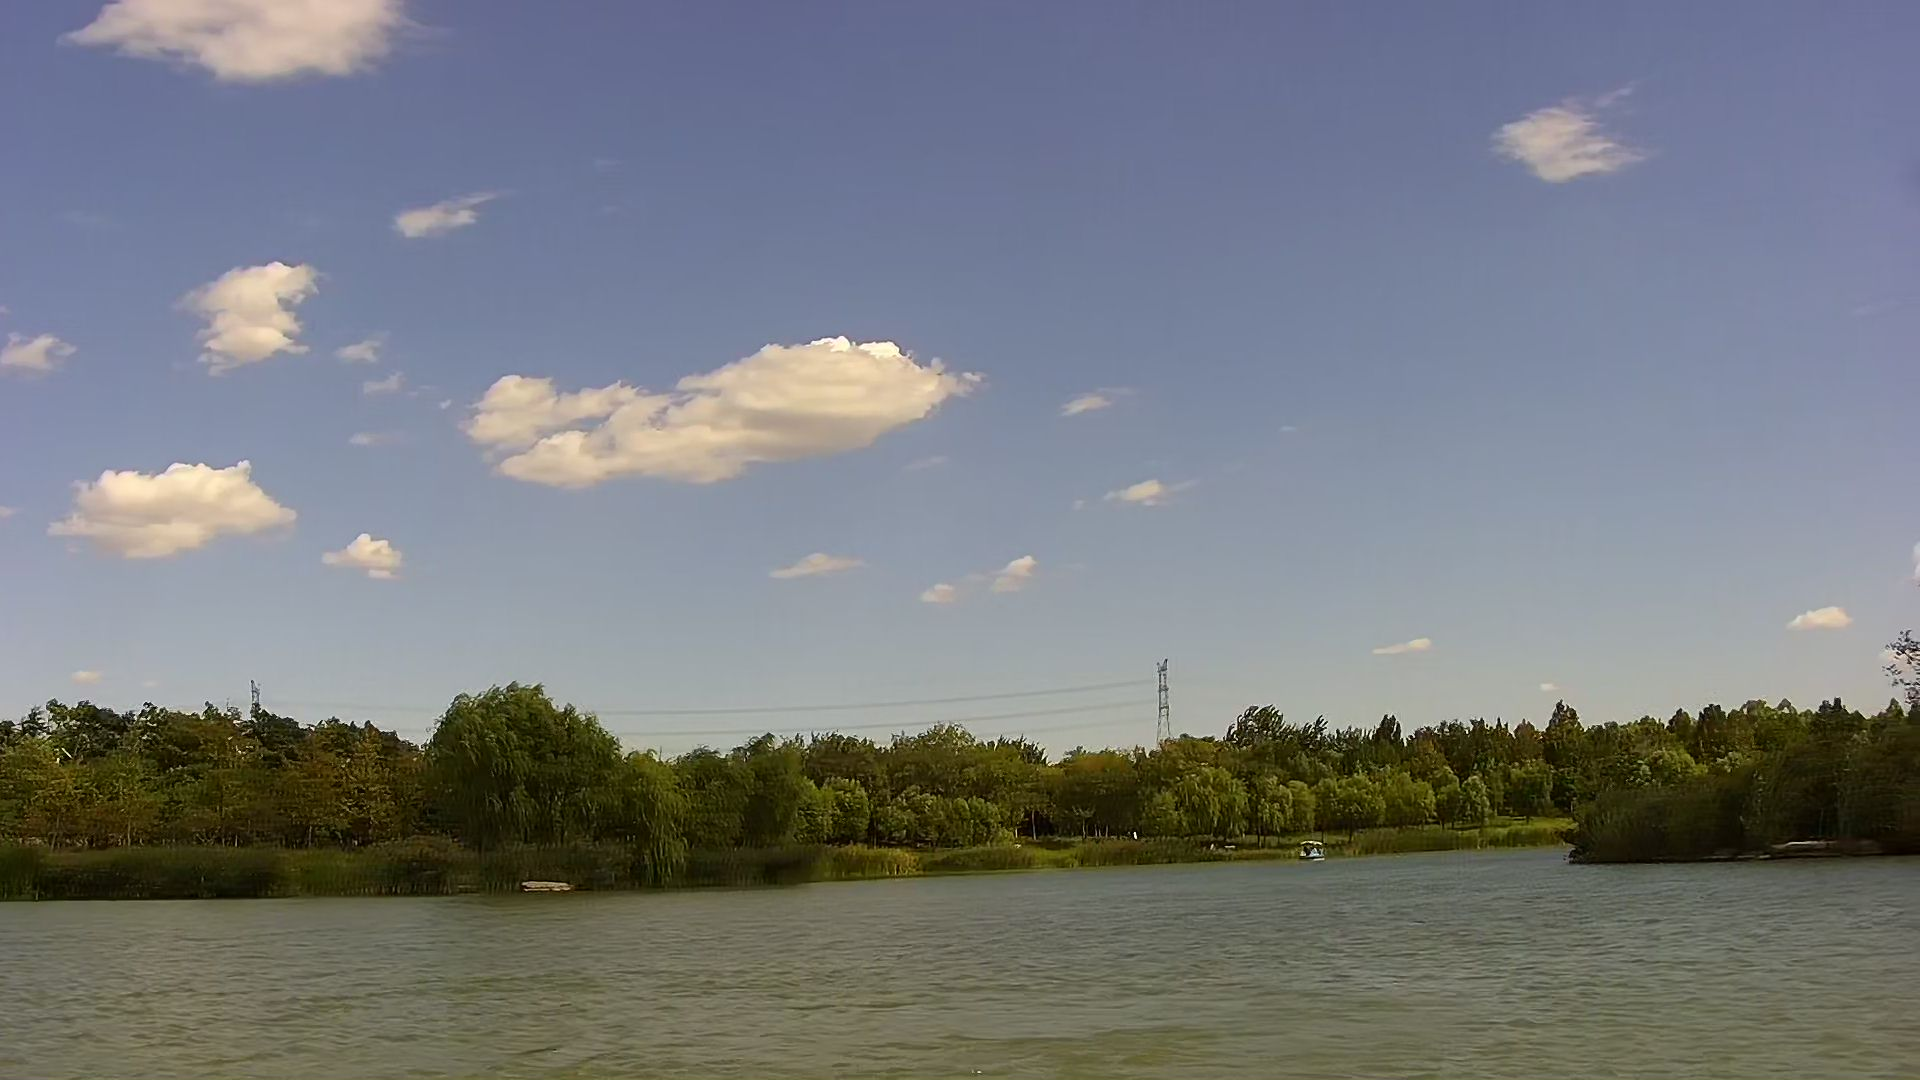boat: (1299, 837, 1319, 858)
rock: (1772, 833, 1845, 860), (524, 876, 568, 897)
